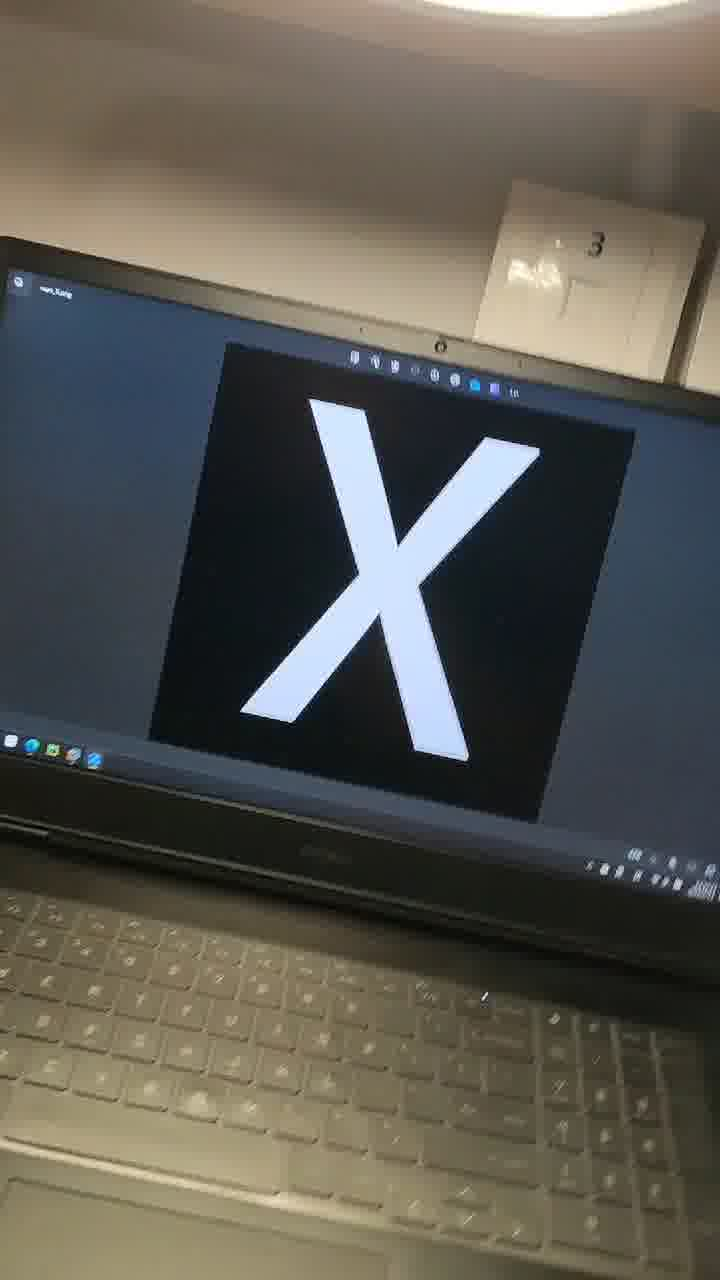X: (121, 373, 592, 810)
